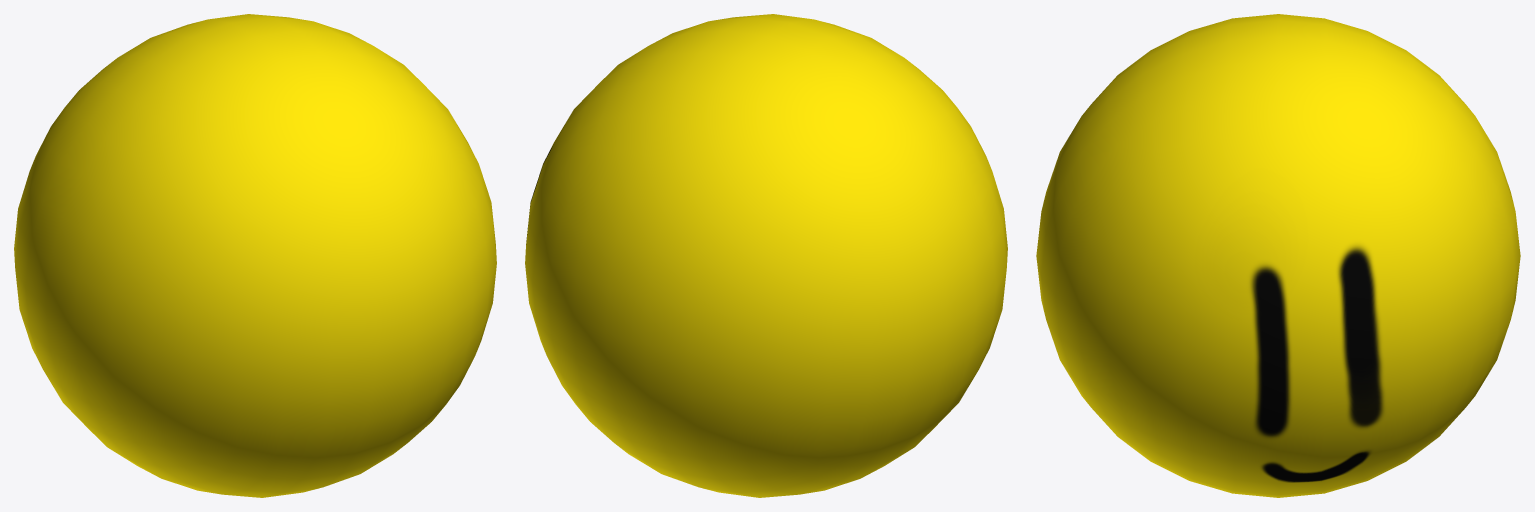
File: SM_PlayerBall.fbx
3 views of the same model, side by side, from view 1: azimuth 30°, elevation 25°; view 2: azimuth 150°, elevation 25°; view 3: azimuth 270°, elevation 25° (orthographic).
Parts seen in each view (by area): view 1: Ball; view 2: Ball; view 3: Ball.
Boxes of the visible parts, x1=… form: Ball: x1=14, y1=14, x2=496, y2=497; Ball: x1=525, y1=14, x2=1007, y2=497; Ball: x1=1036, y1=14, x2=1520, y2=497.
Bounding box in the file's own units: 200 × 200 × 200.
